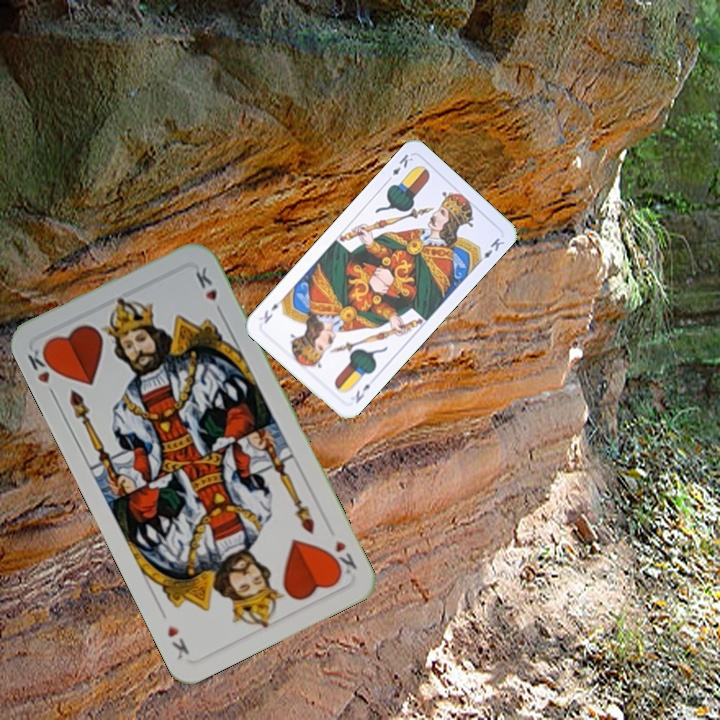EK: (382, 150, 416, 185), (351, 380, 373, 406)
HK: (23, 341, 60, 401), (325, 536, 360, 579)
